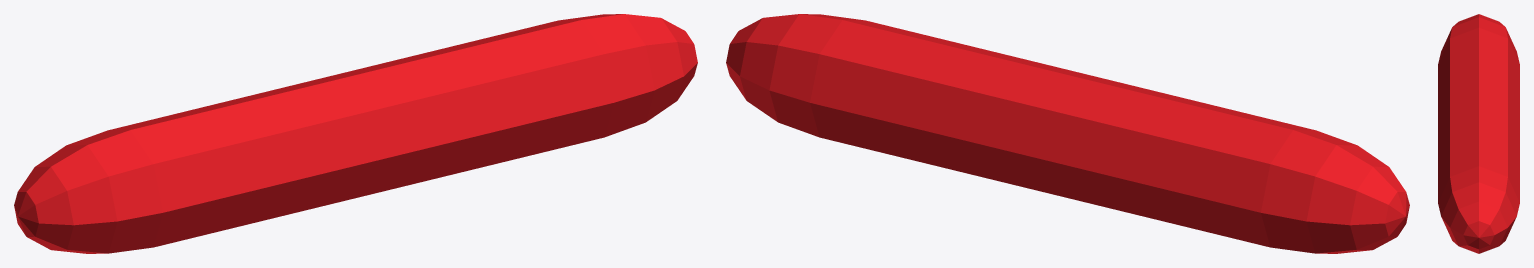
Rendered from EnemyBullet.fbx.
3 views of the same model, side by side, from view 1: azimuth 30°, elevation 25°; view 2: azimuth 150°, elevation 25°; view 3: azimuth 270°, elevation 25° (orthographic). The views are drawn at different scales.
Visible parts, largest first — view 1: Ball; view 2: Ball; view 3: Ball.
Part boxes in pixels (left/top/right/bottom): Ball: left=14, top=14, right=697, bottom=253; Ball: left=726, top=14, right=1409, bottom=253; Ball: left=1438, top=14, right=1519, bottom=253.
Size of the model in its own units: 42 by 7 by 7.
